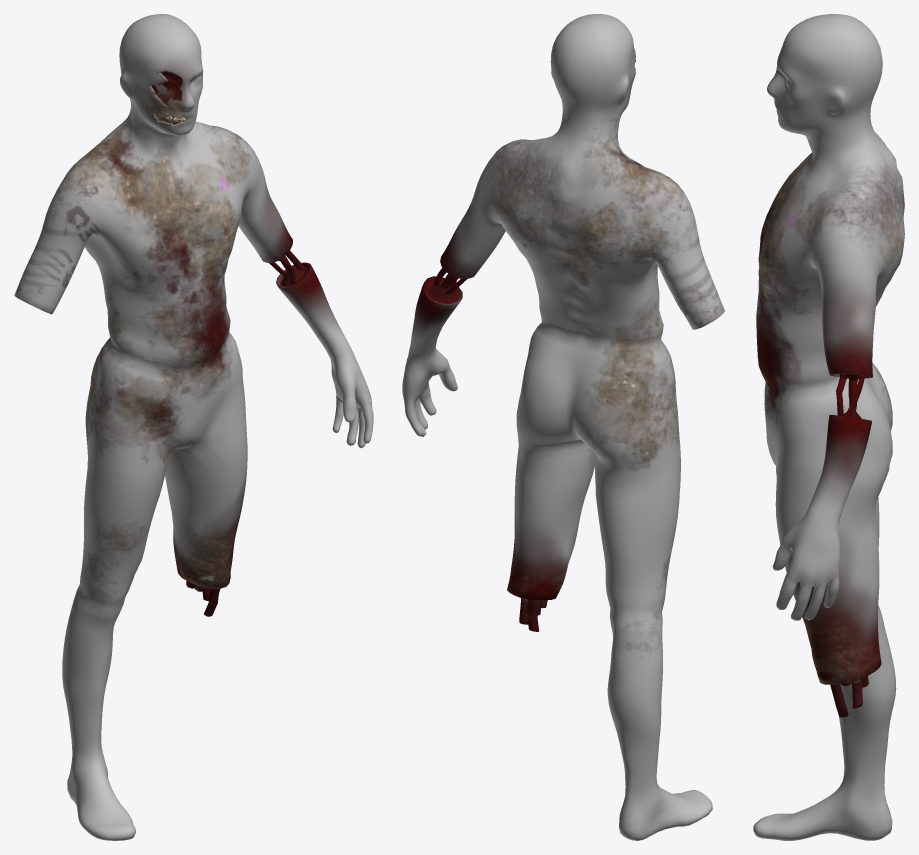
Rendered from mannequin.glb.
The picture shows the model from 3 angles, left to right: view 1: azimuth 30°, elevation 25°; view 2: azimuth 150°, elevation 25°; view 3: azimuth 270°, elevation 25°; orthographic projection. The views are drawn at different scales.
Visible parts, largest first — view 1: pCube13; view 2: pCube13; view 3: pCube13.
Part boxes in pixels (x1,y1,x2,y2): pCube13: [14, 14, 373, 840]; pCube13: [402, 14, 724, 840]; pCube13: [753, 14, 904, 840].
Size of the model in its own units: 4.94 by 11.17 by 1.8.
2 materials, 2 textured.
